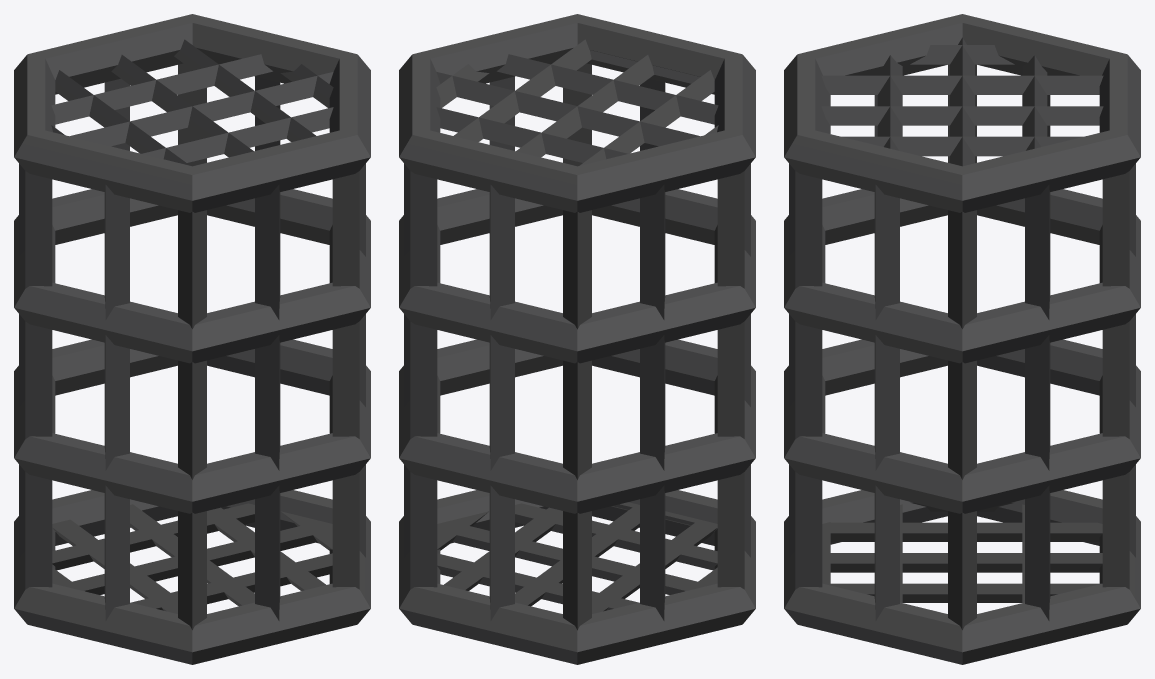
Rendered from Scaffold_Part_Steel_B.fbx.
3 renders of one model, left to right at view 1: azimuth 30°, elevation 25°; view 2: azimuth 150°, elevation 25°; view 3: azimuth 270°, elevation 25°, orthographic.
Visible parts, largest first — view 1: Scaffold_Part_Steel_B; view 2: Scaffold_Part_Steel_B; view 3: Scaffold_Part_Steel_B.
Part boxes in pixels (bbox=[...]): Scaffold_Part_Steel_B: bbox=[14, 14, 370, 664]; Scaffold_Part_Steel_B: bbox=[399, 14, 755, 664]; Scaffold_Part_Steel_B: bbox=[784, 14, 1140, 664].
Size of the model in its own units: 98.62 by 129 by 85.41.
